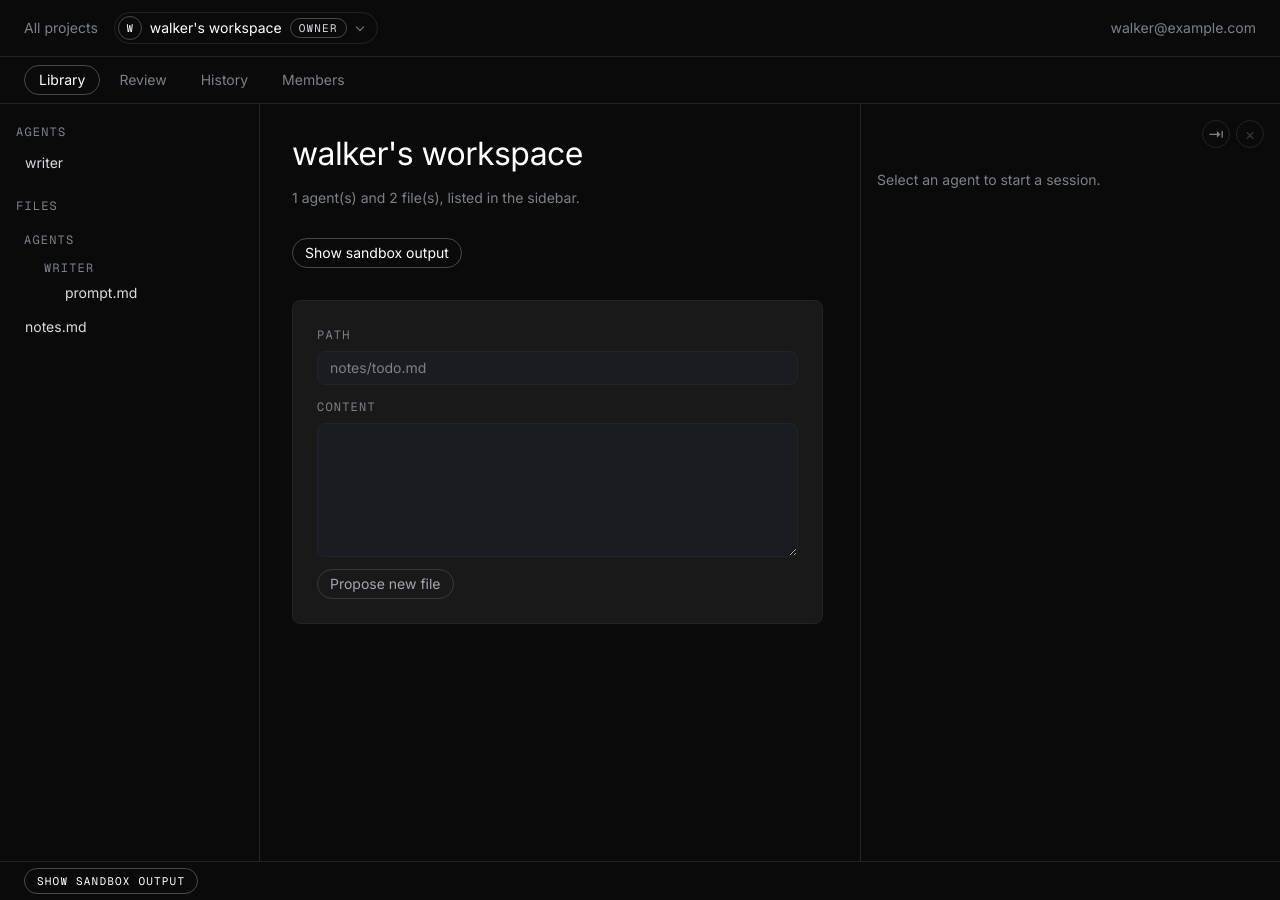
Test: pane layout › lists a closed pane in the status bar and reopens it from there
Click the button "Show Sandbox output".
click(111, 881)  # box [24,868,198,894]
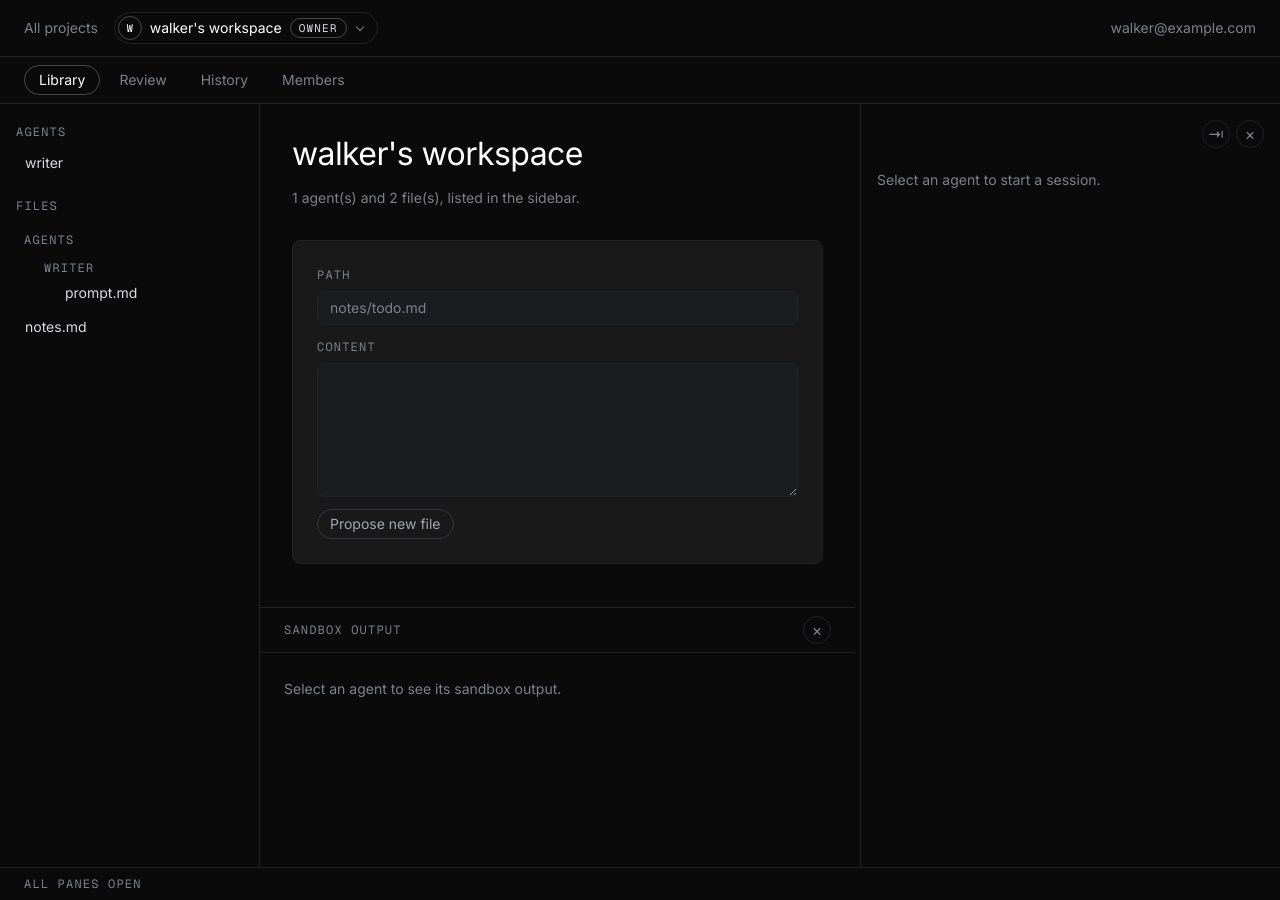
Now the element "Sandbox output" is shown, box [260,607,855,867]
Now the button "Show sandbox output" is gone
